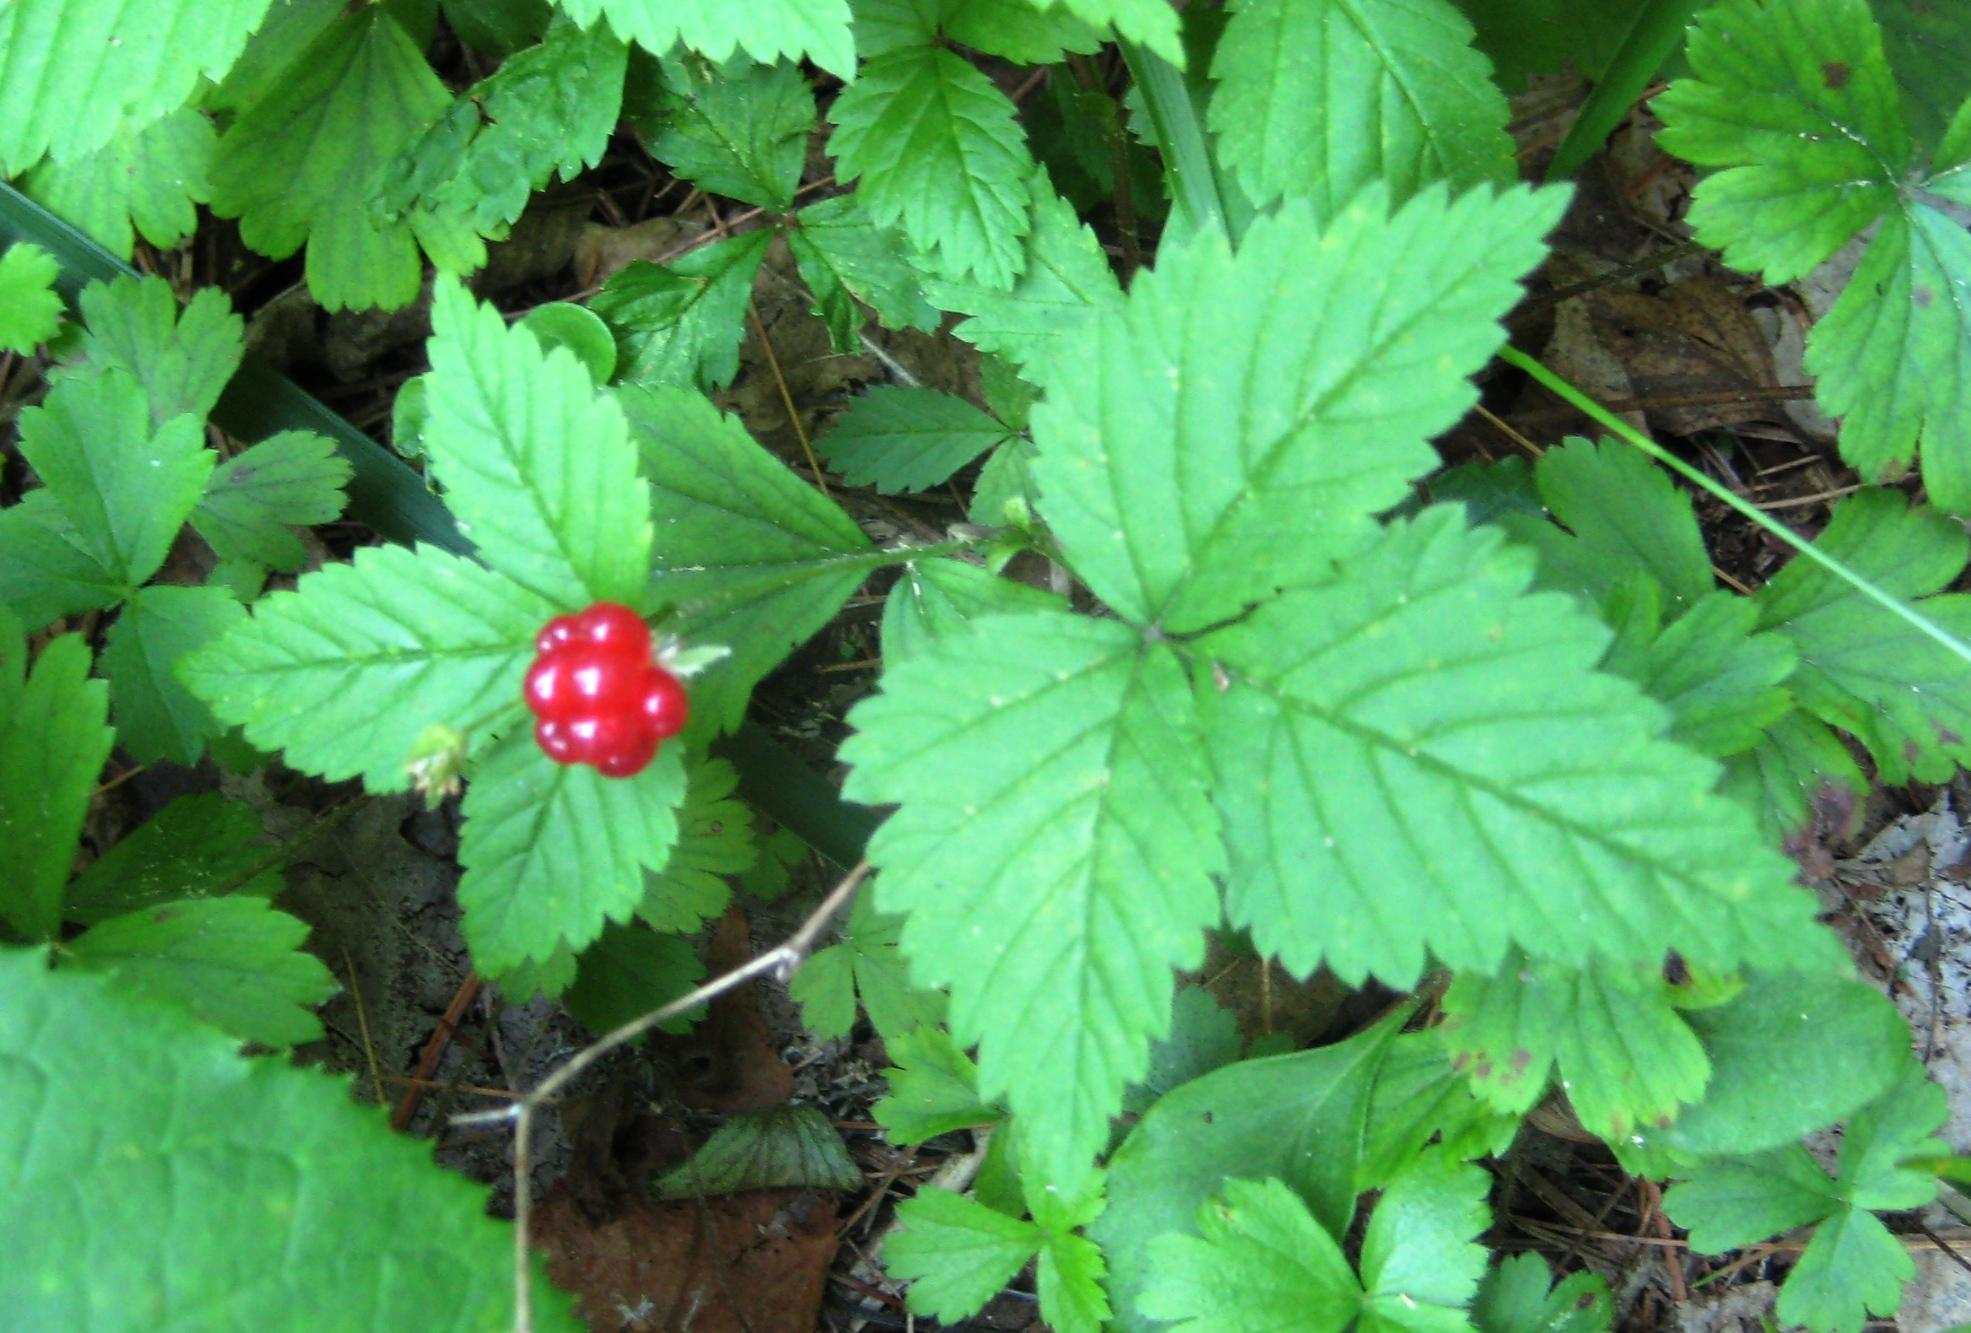Raspberry leaf: (1183, 504, 1879, 997), (1023, 167, 1595, 634), (820, 607, 1250, 1214)
